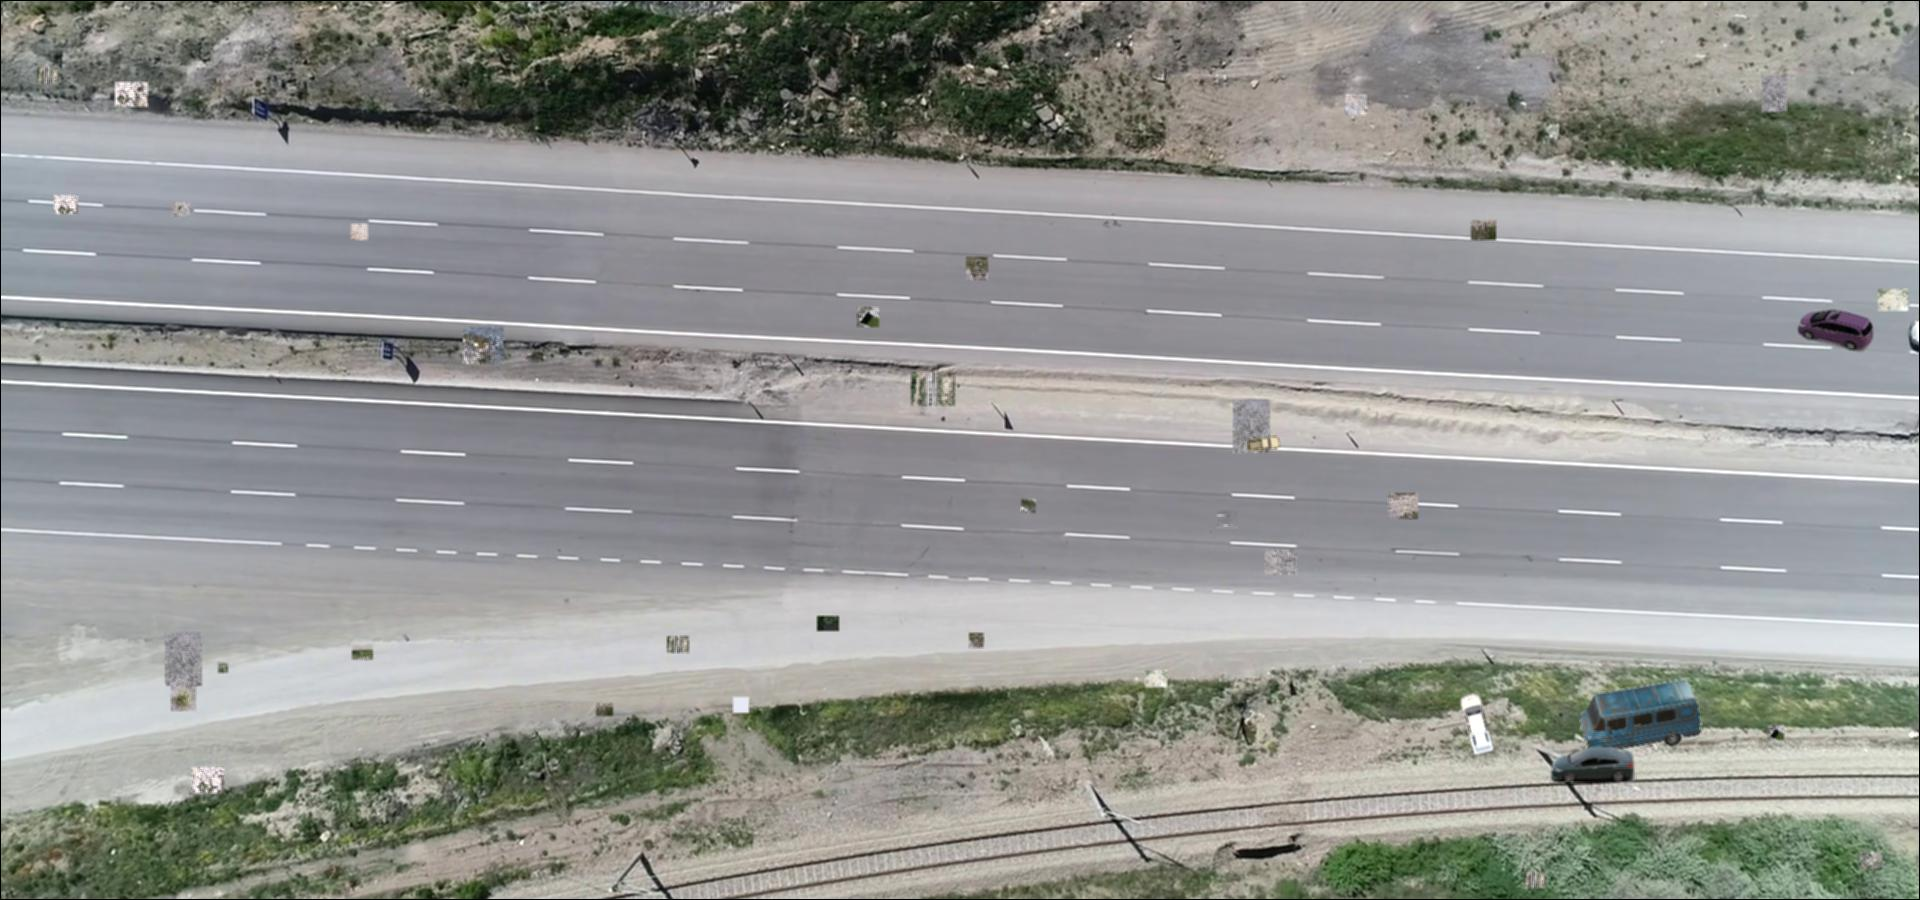arac: (1575, 680, 1711, 760), (1798, 309, 1875, 353), (1551, 744, 1636, 782), (1458, 691, 1498, 756), (1247, 436, 1280, 452)
